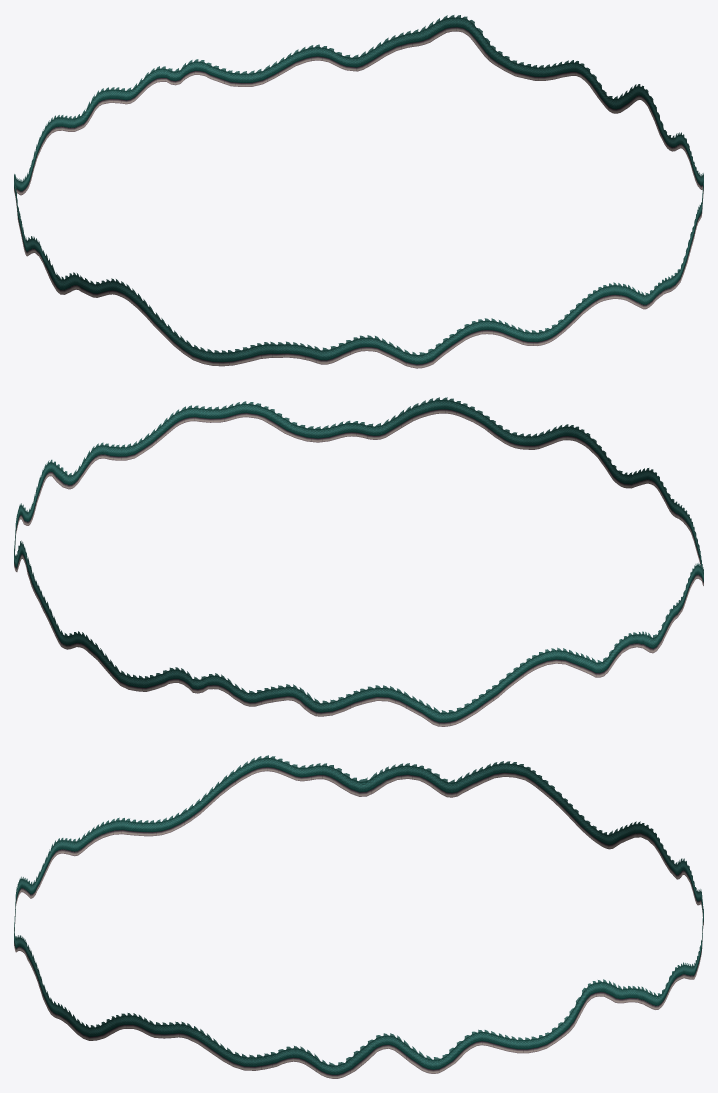
Rendered from zhucheng_longshu_01.FBX.
3 views of the same model, one above another, from view 1: azimuth 30°, elevation 25°; view 2: azimuth 150°, elevation 25°; view 3: azimuth 270°, elevation 25° (orthographic).
Visible parts, largest first — view 1: w; view 2: w; view 3: w.
Part boxes in pixels (<box>): w: <box>14,15,703,368</box>; w: <box>14,397,703,726</box>; w: <box>14,755,703,1078</box>.
Bounding box in the file's own units: 41199 × 5304 × 41220.
